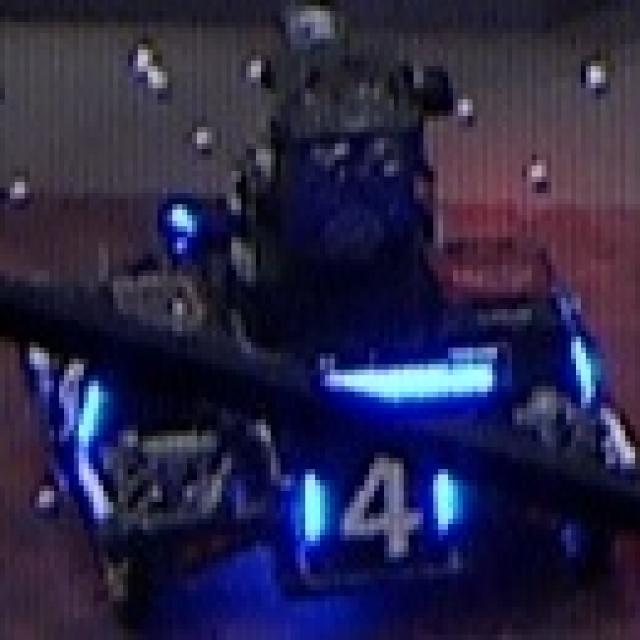B4: (286, 441, 462, 563), (30, 342, 104, 447)
